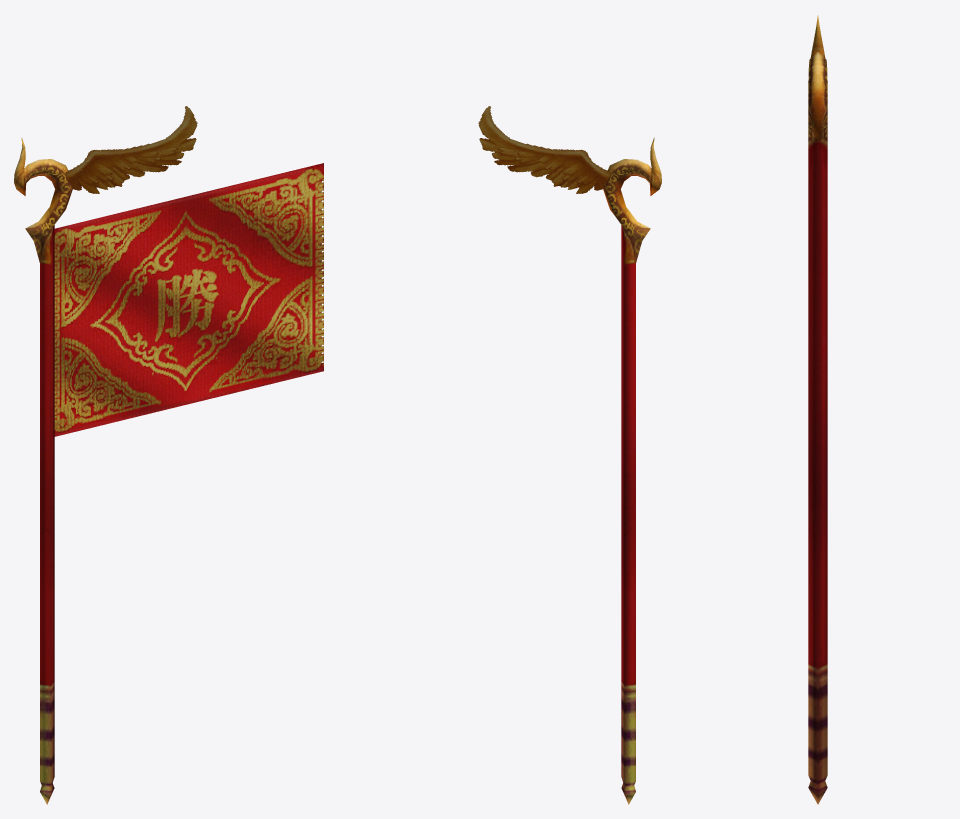
File: flag.glb
The picture shows the model from 3 angles, left to right: view 1: azimuth 30°, elevation 25°; view 2: azimuth 150°, elevation 25°; view 3: azimuth 270°, elevation 25°; orthographic projection. The views are drawn at different scales.
Visible parts, largest first — view 1: res\npc\npc\flag.bsr; view 2: res\npc\npc\flag.bsr; view 3: res\npc\npc\flag.bsr.
Part boxes in pixels (bbox=[...]): res\npc\npc\flag.bsr: bbox=[14, 106, 323, 804]; res\npc\npc\flag.bsr: bbox=[478, 106, 661, 804]; res\npc\npc\flag.bsr: bbox=[808, 15, 827, 804].
Size of the model in its own units: 15.19 by 33.86 by 9.43.
1 material, 1 textured.
